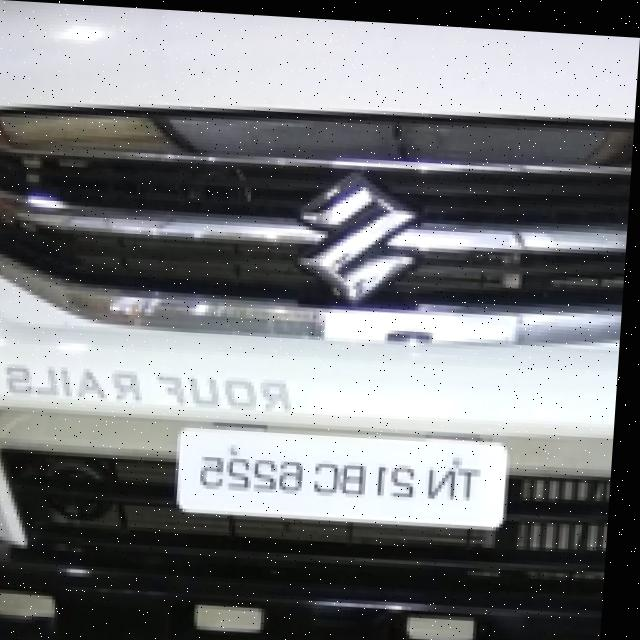plate: (180, 417, 521, 524)
